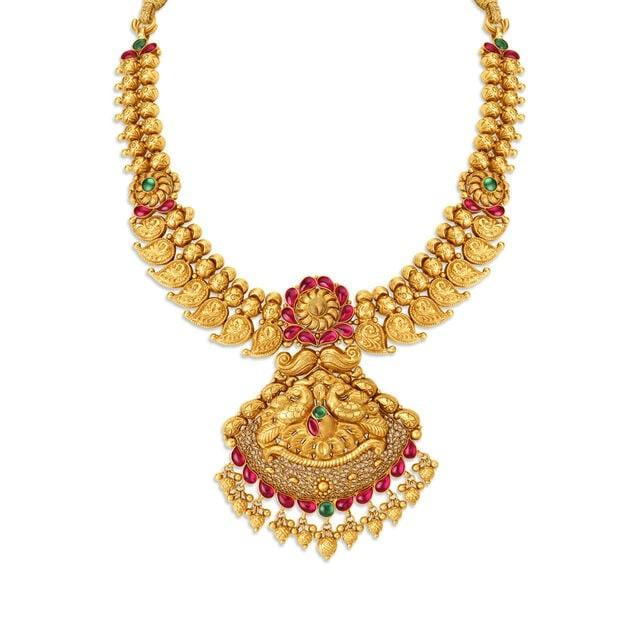missing gem: (309, 298, 326, 316), (321, 415, 333, 437)
